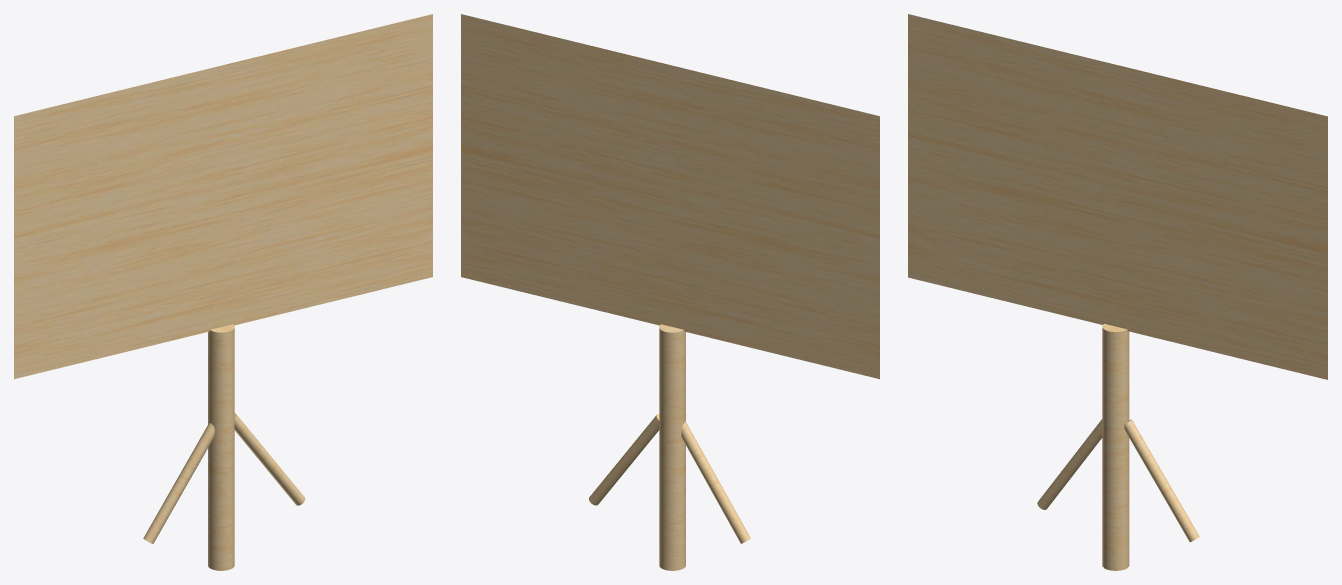
File: Goal.fbx
3 renders of one model, left to right at view 1: azimuth 30°, elevation 25°; view 2: azimuth 150°, elevation 25°; view 3: azimuth 330°, elevation 25°, orthographic.
Visible parts, largest first — view 1: Plane001, Cylinder001, Cylinder3, Cylinder002; view 2: Plane001, Cylinder001, Cylinder3, Cylinder002; view 3: Plane001, Cylinder001, Cylinder002, Cylinder3.
Boxes of the visible parts, left/top/right/bottom form: Plane001: left=14, top=14, right=432, bottom=379; Cylinder001: left=208, top=324, right=234, bottom=570; Cylinder3: left=143, top=423, right=214, bottom=543; Cylinder002: left=234, top=413, right=305, bottom=505; Plane001: left=461, top=14, right=879, bottom=379; Cylinder001: left=659, top=324, right=685, bottom=570; Cylinder3: left=681, top=421, right=750, bottom=543; Cylinder002: left=589, top=413, right=659, bottom=505; Plane001: left=908, top=14, right=1327, bottom=379; Cylinder001: left=1102, top=323, right=1129, bottom=570; Cylinder002: left=1124, top=419, right=1199, bottom=542; Cylinder3: left=1037, top=419, right=1102, bottom=509.
Bounding box in the file's own units: 250 × 285 × 13.79.
